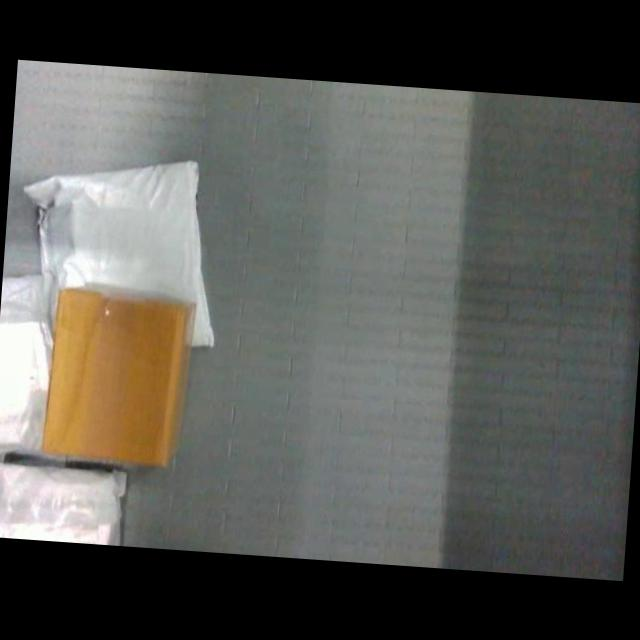box: (43, 287, 194, 466)
mailer: (27, 161, 213, 346), (0, 466, 125, 547), (0, 275, 53, 456)
